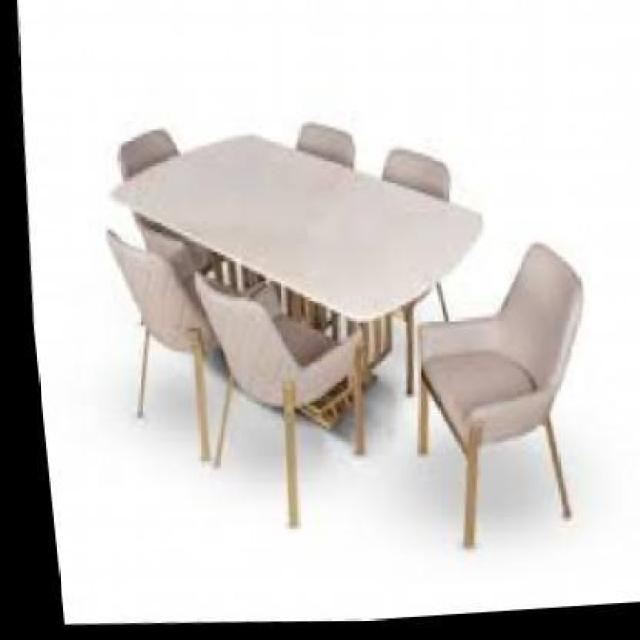tables: (109, 132, 483, 456)
